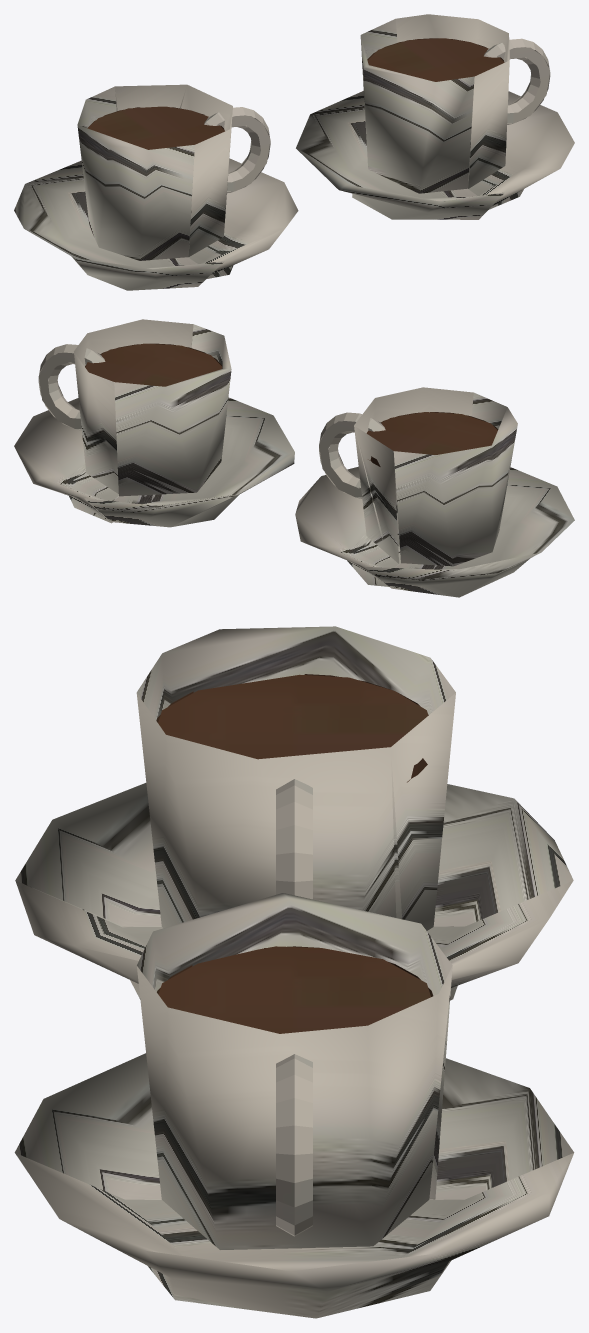
Rendered from FD06_CupsOfTea.glb.
The picture shows the model from 3 angles, top to bottom: view 1: azimuth 30°, elevation 25°; view 2: azimuth 150°, elevation 25°; view 3: azimuth 270°, elevation 25°; orthographic projection. The views are drawn at different scales.
Parts seen in each view (by area): view 1: FD06_CupsOfTea; view 2: FD06_CupsOfTea; view 3: FD06_CupsOfTea.
Boxes of the visible parts, x1,y1,x2,y2 form: FD06_CupsOfTea: [14, 14, 574, 290]; FD06_CupsOfTea: [14, 319, 574, 597]; FD06_CupsOfTea: [14, 626, 574, 1318].
Bounding box in the file's own units: 0.0997 × 0.0257 × 0.0464.
2 materials, 2 textured.
